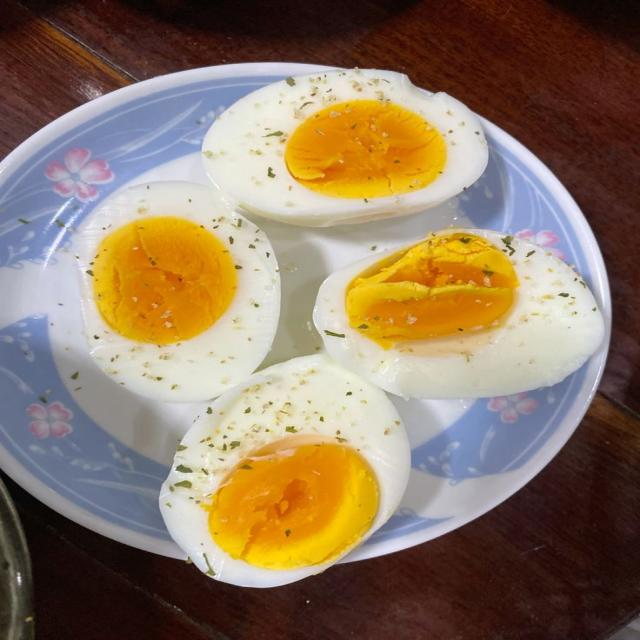egg boiled: (160, 355, 410, 586), (314, 229, 604, 399), (75, 182, 279, 401), (203, 70, 487, 226)
